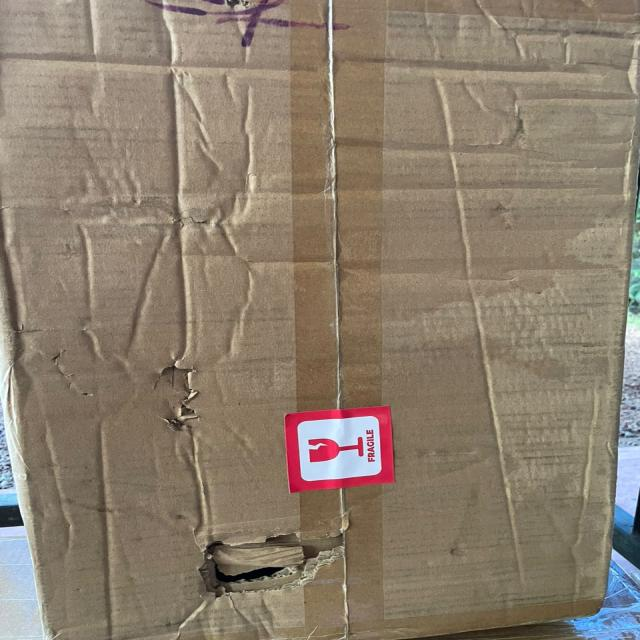carton_box: (0, 0, 640, 640)
fragile_label: (266, 400, 414, 497)
package_damage: (148, 495, 391, 624), (110, 326, 235, 453)
